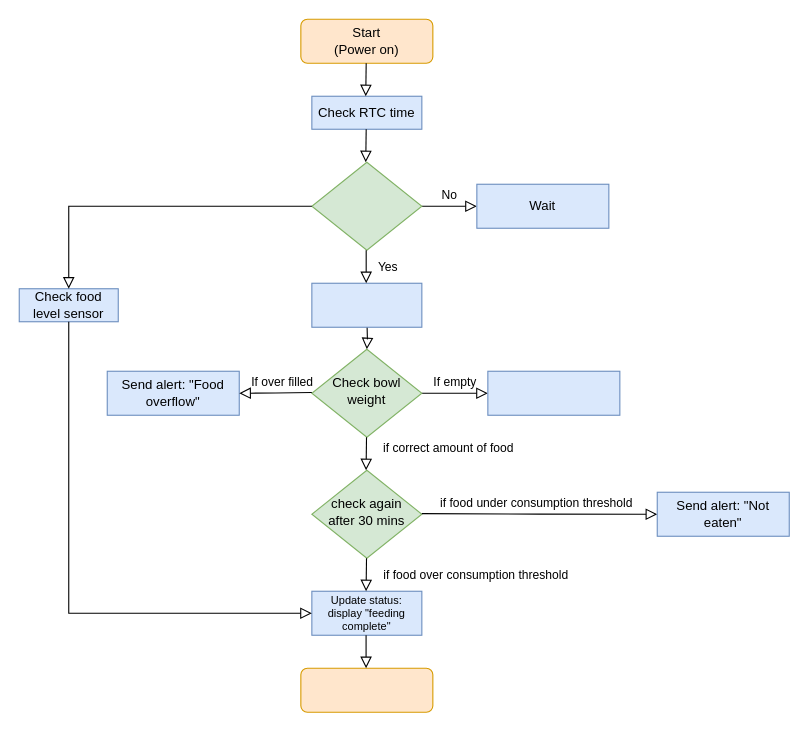
This 809x732 diagram has some shape labels left out. Here are the shapes that lost their labels. From the top down, the box of each, then its label:
(311, 161, 422, 250): Is it feeing time?
(311, 282, 422, 327): Fill the bowl (activate servo motor)
(487, 370, 620, 415): Send alert: "No food"
(300, 667, 433, 712): return to idle mode
